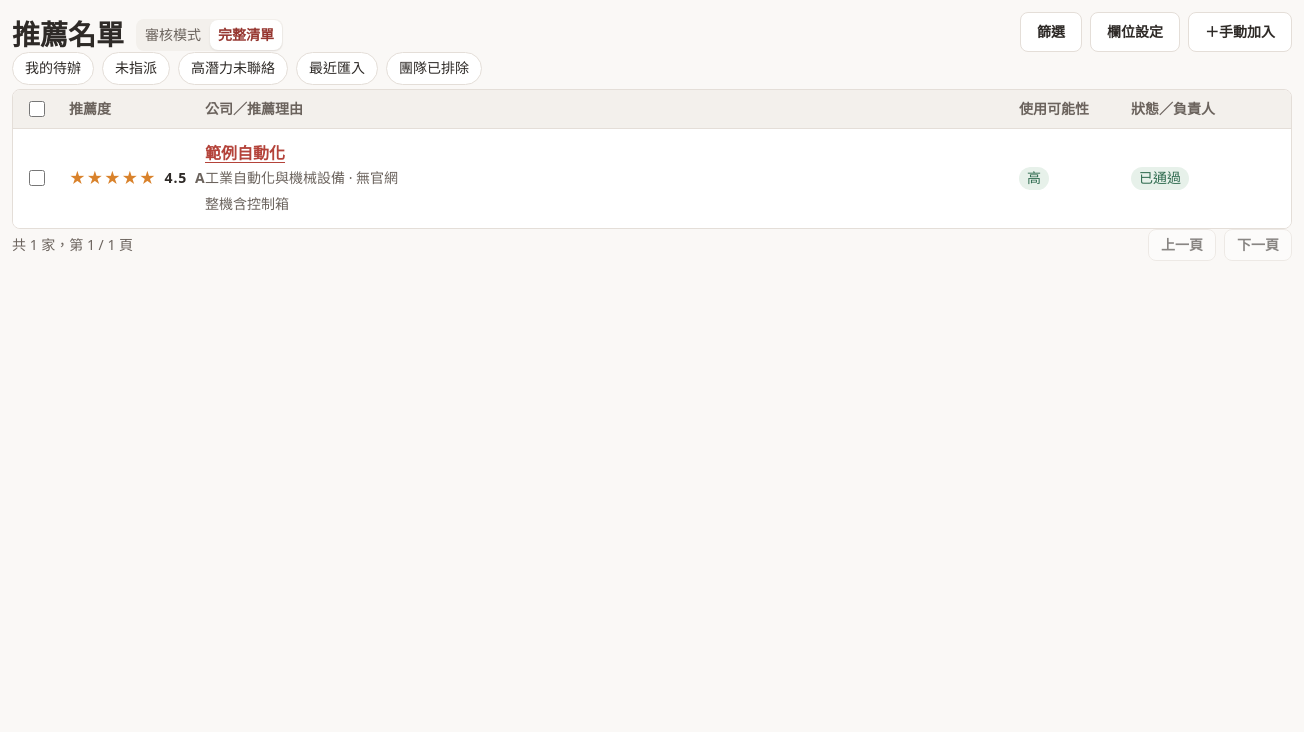
Test: M3-13c 推薦清單批次加入追蹤 › test_f_rec_9_batch_add_tracking：勾選後按「加入追蹤」呼叫 POST /cases
The width and height of the screenshot is (1304, 732).
Click the checkbox named "選取 範例自動化" at (37, 178), box [29,170,45,186]
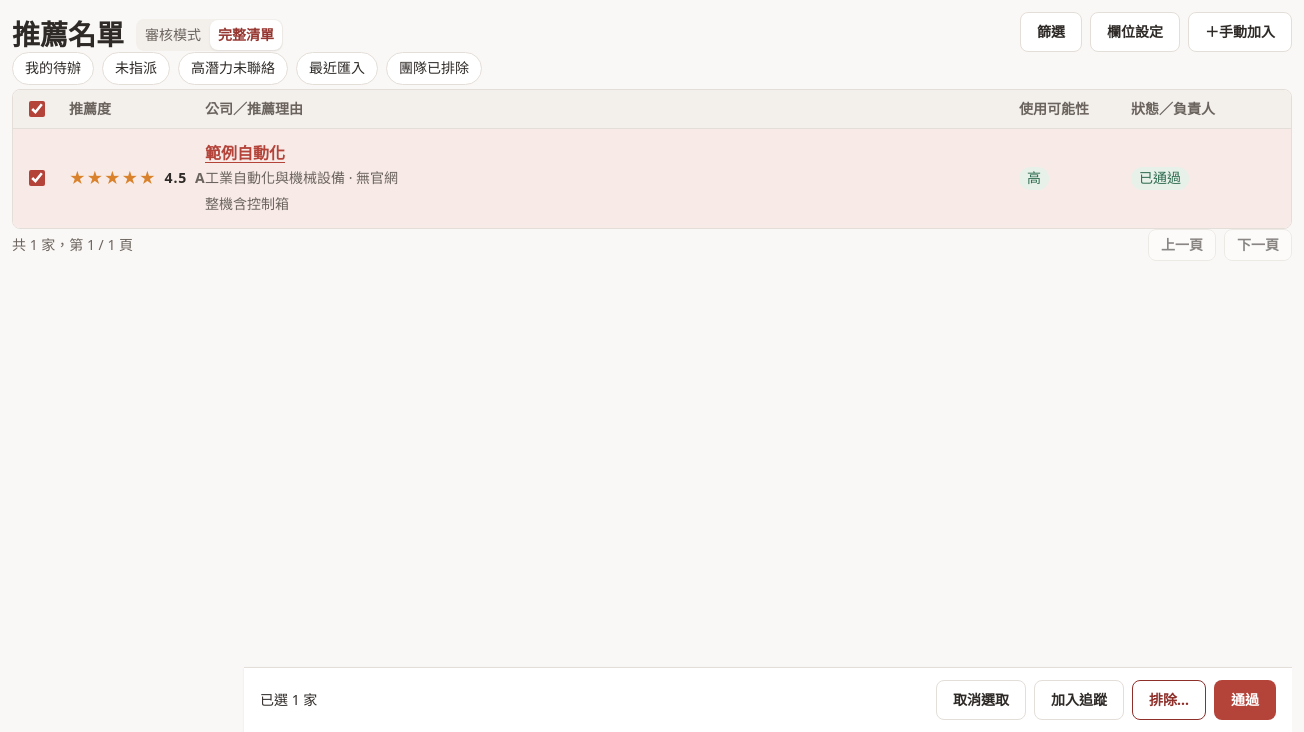
Click the button "加入追蹤" at (1079, 700), box [1034,680,1124,720]
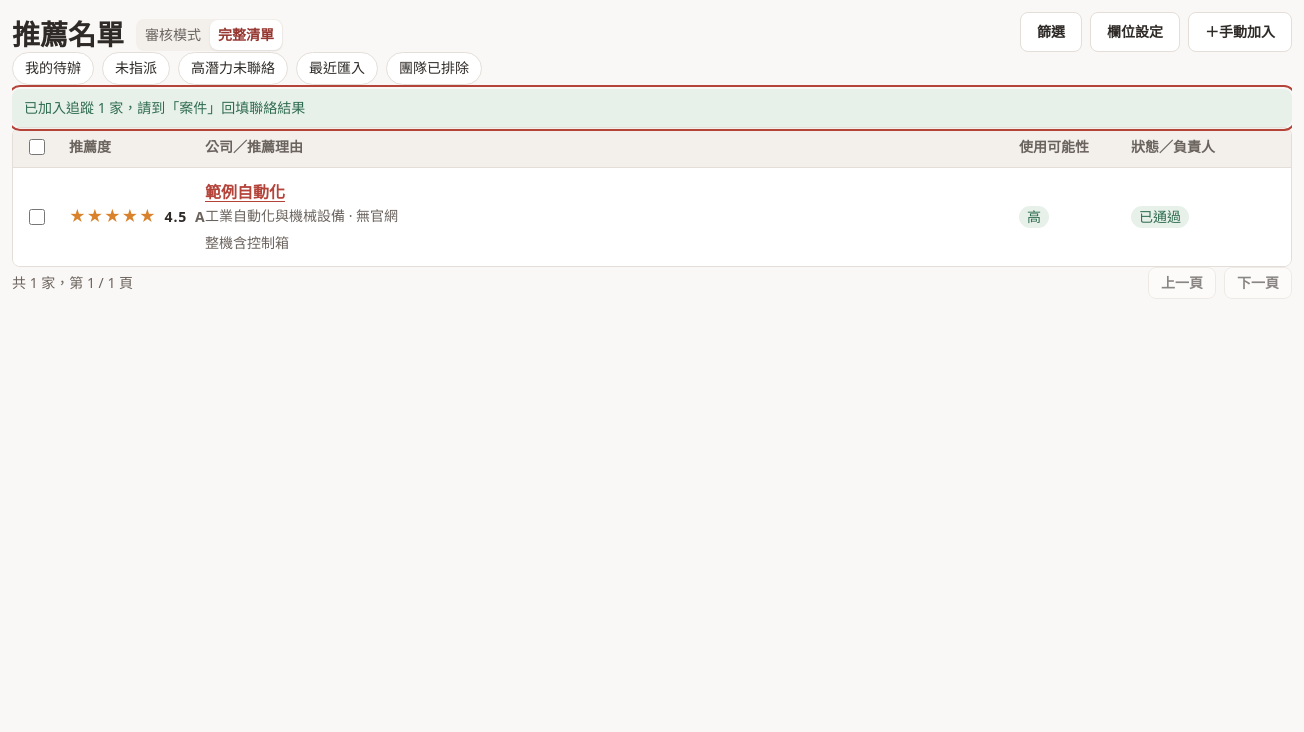
Now the text "已加入追蹤 1 家，請到「案件」回填聯絡結果" is shown, box [12,89,1292,127]
